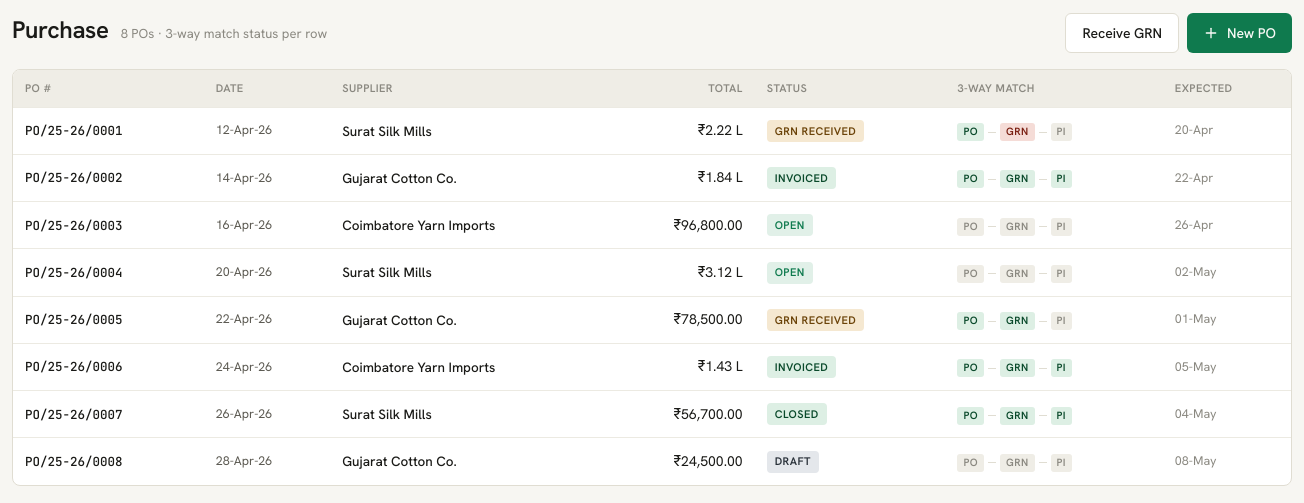
it: Purchase Order flow › renders list rows and routes to detail on row click
This screenshot has width=1304, height=503.
Click the text "PO/25-26/0001" at x=74, y=131, box [25,122,122,139]
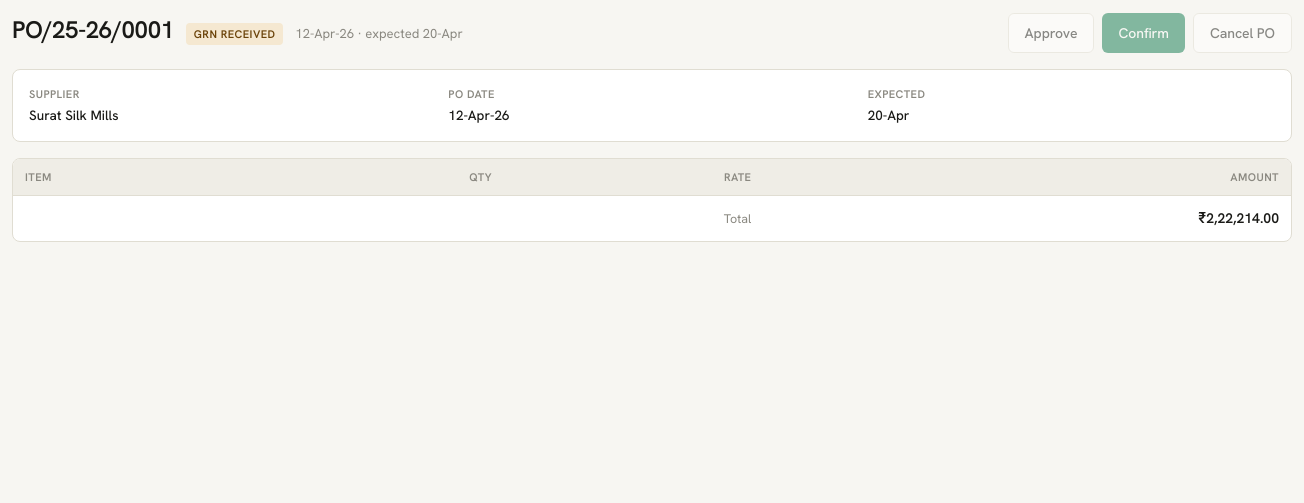
Result: the heading reads "PO/25-26/0001" at [12,14,174,45]
